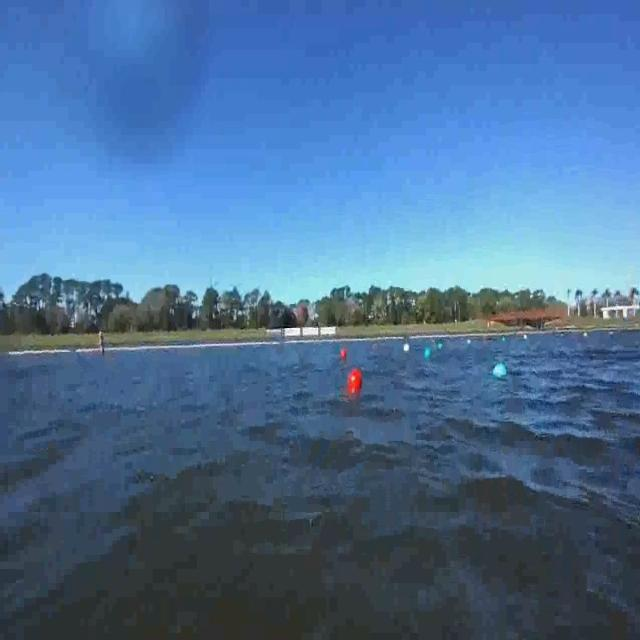green-buoy: (490, 358, 509, 385), (423, 346, 432, 361)
red-buoy: (348, 369, 362, 392), (338, 346, 348, 362)
yellow-buoy: (400, 339, 412, 356)
